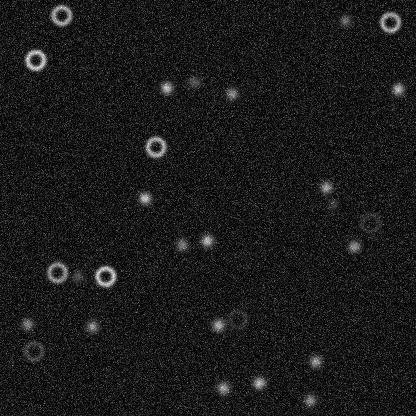Ring: (45, 260, 69, 284), (143, 134, 167, 158), (21, 338, 45, 362), (358, 210, 382, 234), (49, 3, 73, 27), (378, 10, 402, 34), (23, 47, 47, 71), (225, 307, 249, 331), (93, 264, 117, 288)
Spot: (318, 179, 334, 195), (215, 379, 231, 395), (136, 190, 152, 206), (174, 236, 190, 252), (337, 12, 353, 28), (307, 353, 323, 369), (158, 79, 174, 95), (324, 196, 340, 212), (69, 268, 85, 284), (223, 85, 239, 101), (346, 238, 362, 254), (199, 232, 215, 248), (210, 317, 226, 333), (301, 392, 317, 408), (19, 316, 35, 332), (250, 374, 266, 390), (186, 73, 202, 89), (390, 81, 406, 97), (84, 318, 100, 334)
